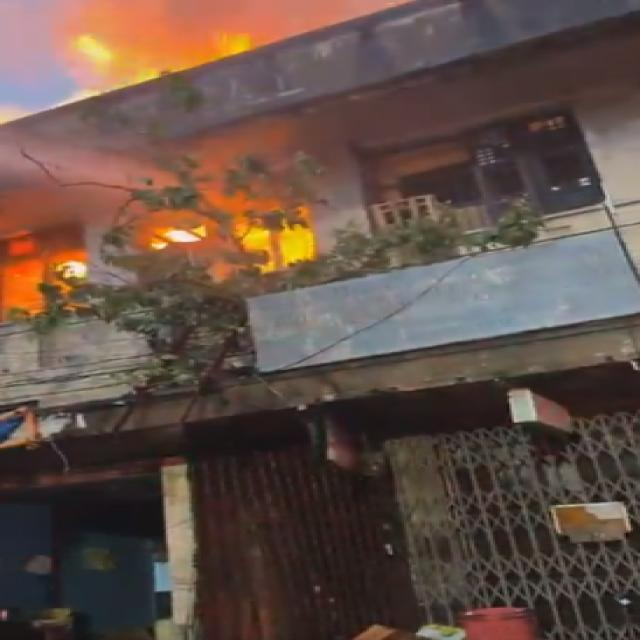Fire: (38, 186, 344, 282), (26, 19, 290, 71)
